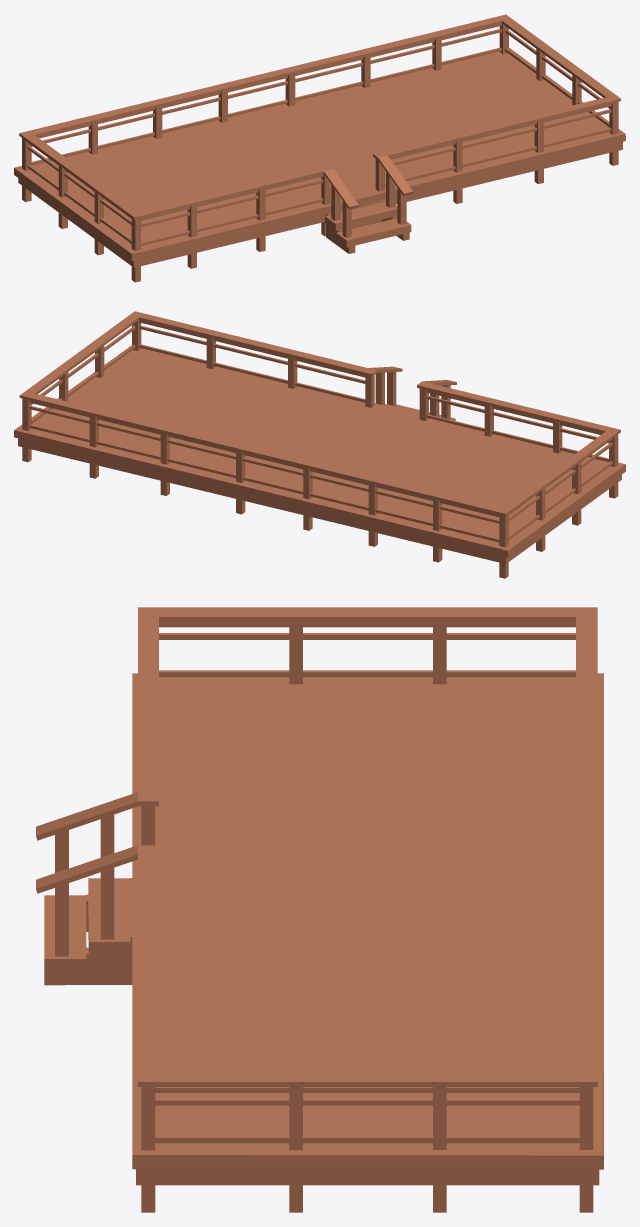
Rendered from Mountain_Foundation_Large.fbx.
3 views of the same model, one above another, from view 1: azimuth 30°, elevation 25°; view 2: azimuth 150°, elevation 25°; view 3: azimuth 270°, elevation 25° (orthographic). The views are drawn at different scales.
Parts seen in each view (by area): view 1: Mountain_Foundation_Large; view 2: Mountain_Foundation_Large; view 3: Mountain_Foundation_Large.
Boxes of the visible parts, <box> form: Mountain_Foundation_Large: <box>14,14,625,282</box>; Mountain_Foundation_Large: <box>14,311,625,578</box>; Mountain_Foundation_Large: <box>36,607,603,1212</box>.
Size of the model in its own units: 325 by 162 by 41.61.
